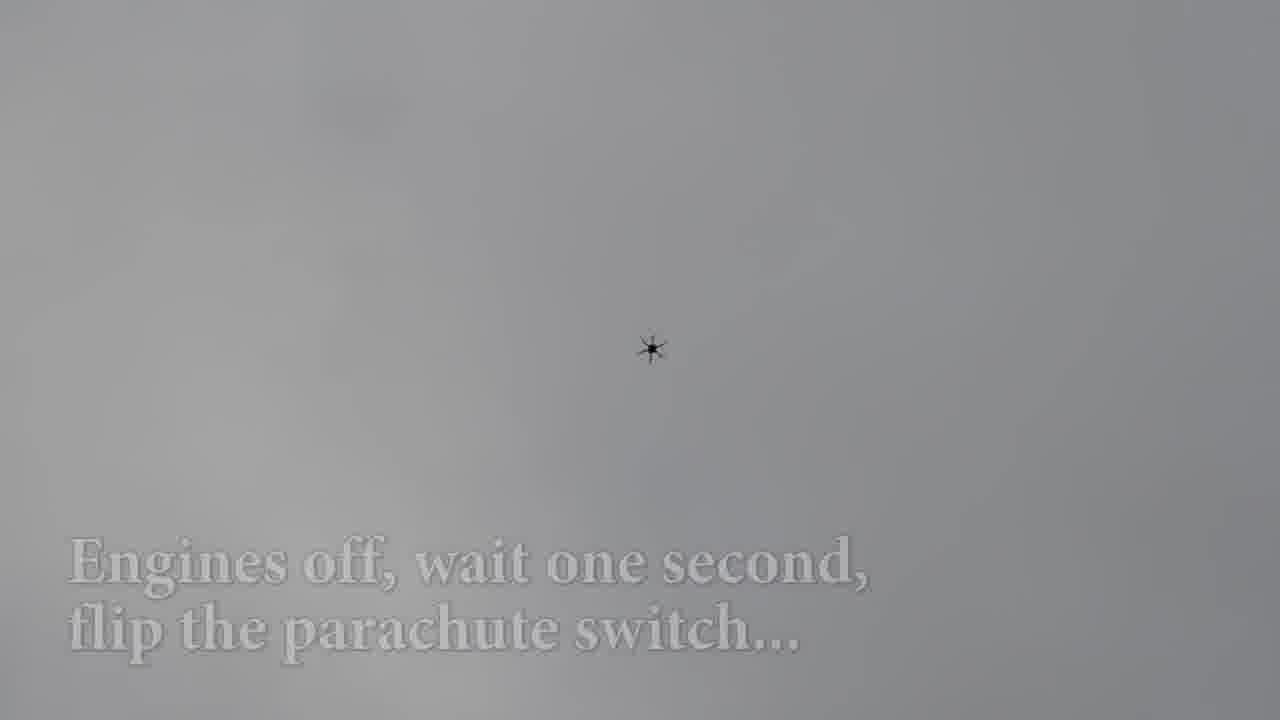drone: (629, 329, 671, 367)
